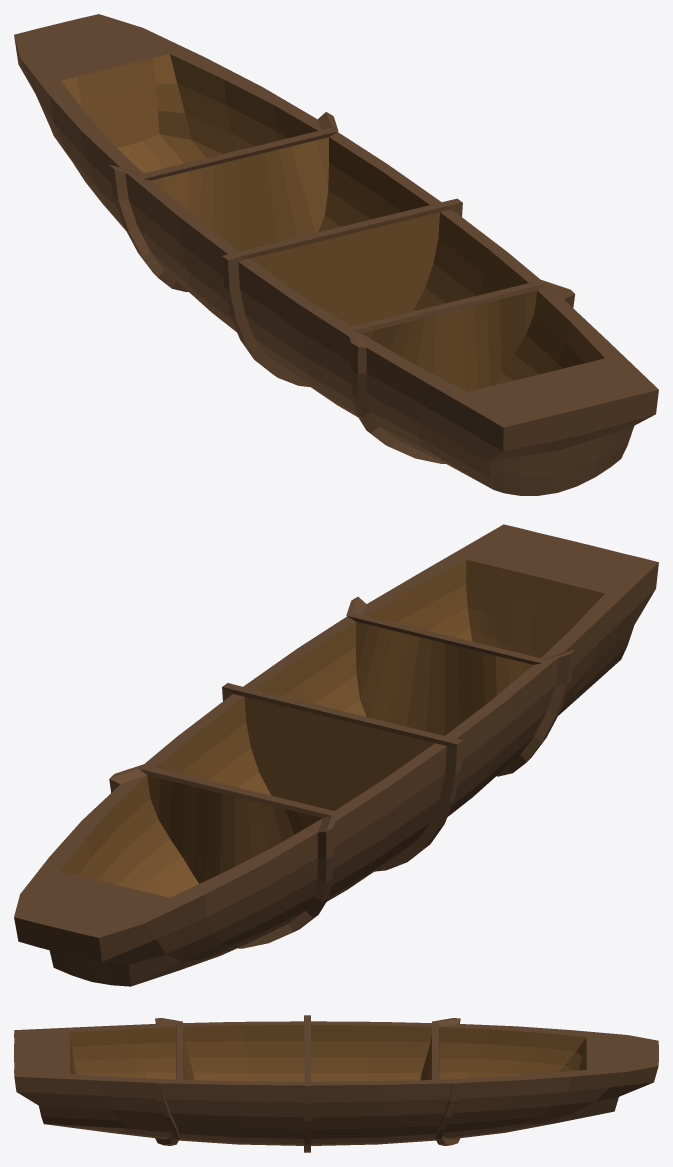
File: Barca.fbx
3 views of the same model, one above another, from view 1: azimuth 30°, elevation 25°; view 2: azimuth 150°, elevation 25°; view 3: azimuth 270°, elevation 25° (orthographic). The views are drawn at different scales.
Visible parts, largest first — view 1: Cube; view 2: Cube; view 3: Cube.
Part boxes in pixels (left/top/right/bottom): Cube: left=14, top=14, right=658, bottom=495; Cube: left=14, top=524, right=658, bottom=986; Cube: left=14, top=1015, right=658, bottom=1152.
Size of the model in its own units: 369 by 231 by 1429.
